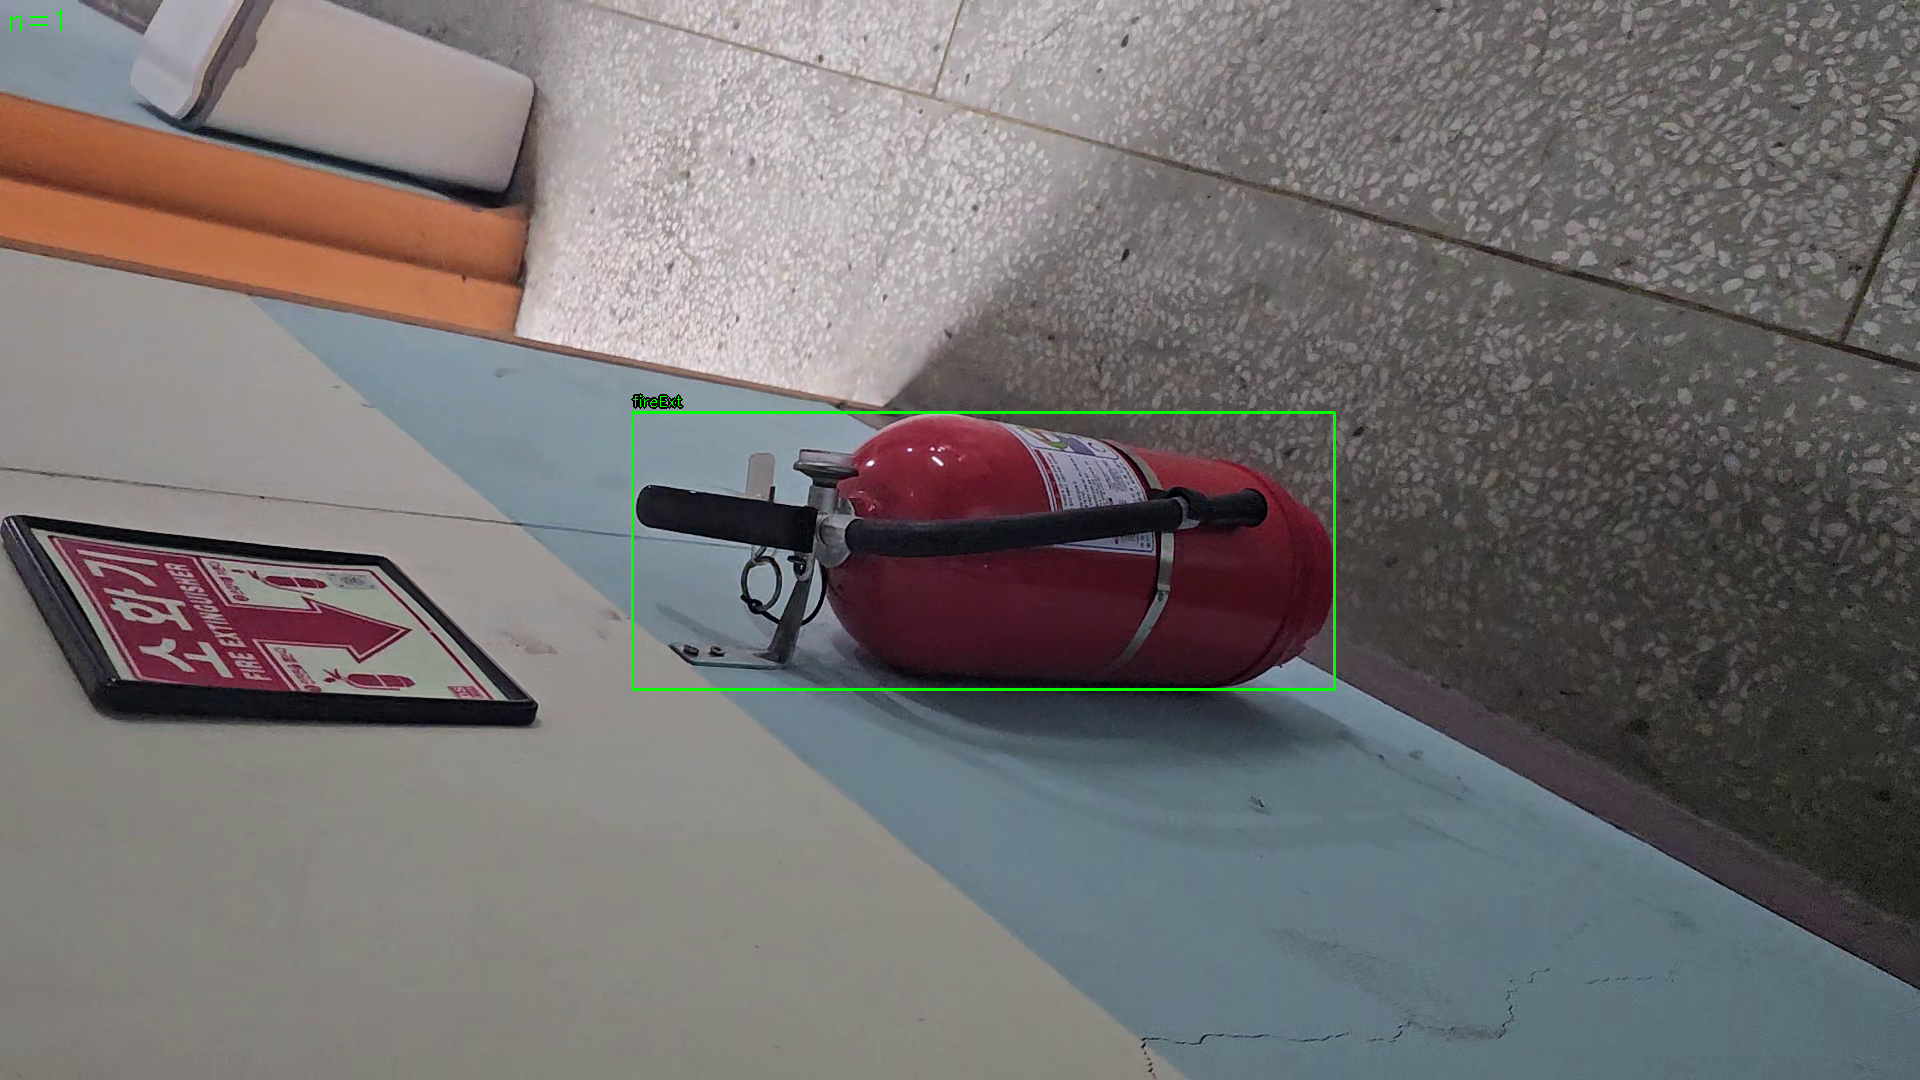lane: (632, 411, 1335, 690)
